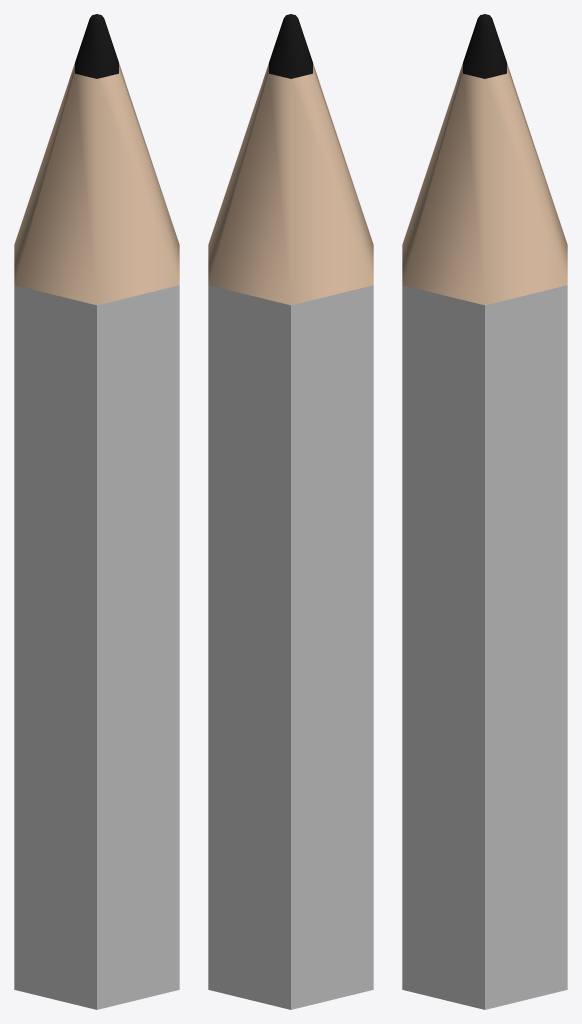
File: New_pencile_whole.fbx
3 views of the same model, side by side, from view 1: azimuth 30°, elevation 25°; view 2: azimuth 150°, elevation 25°; view 3: azimuth 270°, elevation 25° (orthographic).
Visible parts, largest first — view 1: Pencil_whole_new; view 2: Pencil_whole_new; view 3: Pencil_whole_new.
Part boxes in pixels (box(x1,y1,x2,y2)): Pencil_whole_new: box(14, 14, 179, 1009); Pencil_whole_new: box(208, 14, 373, 1009); Pencil_whole_new: box(402, 14, 567, 1009).
Bounding box in the file's own units: 196 × 1082 × 170.
